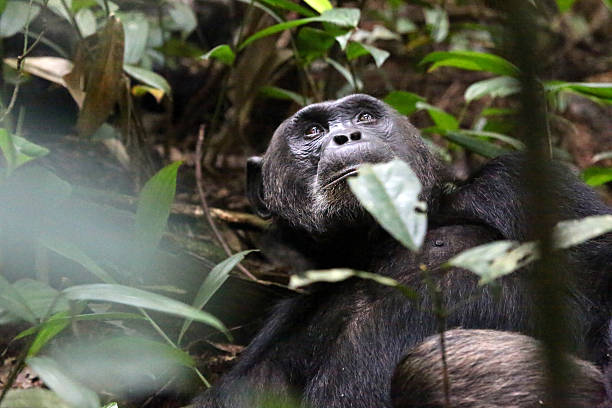chimpanzee: (208, 78, 459, 260)
